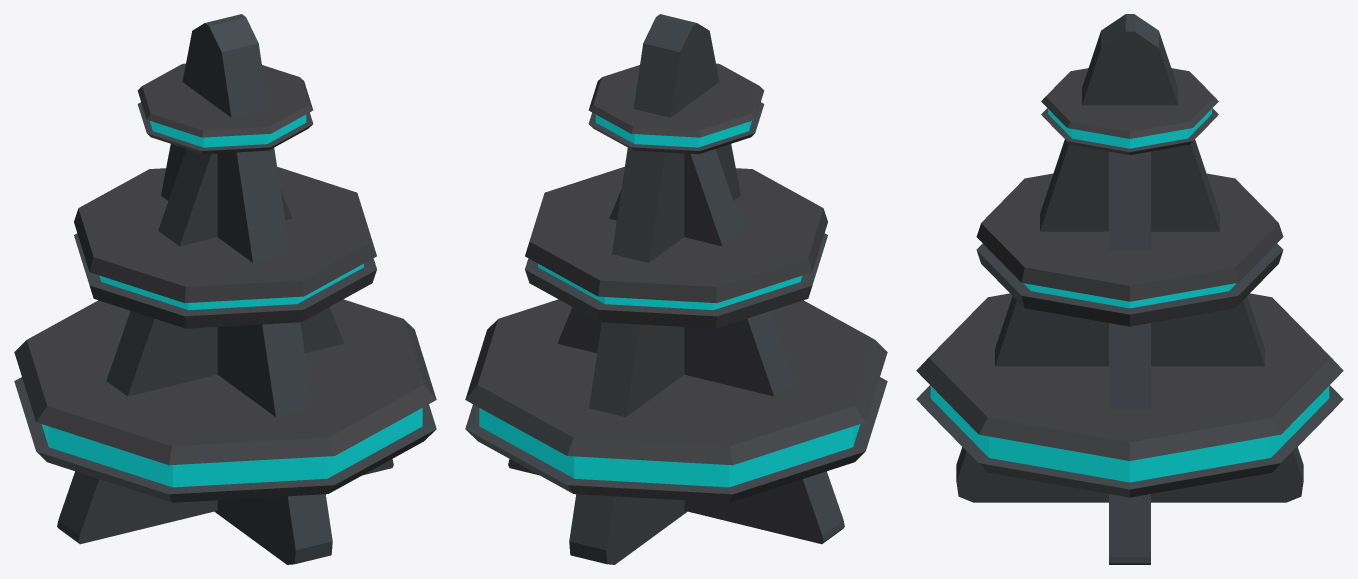
Rendered from LightCylinder_02.glb.
The picture shows the model from 3 angles, left to right: view 1: azimuth 30°, elevation 25°; view 2: azimuth 150°, elevation 25°; view 3: azimuth 270°, elevation 25°; orthographic projection. The views are drawn at different scales.
Parts seen in each view (by area): view 1: LightCylinder_02; view 2: LightCylinder_02; view 3: LightCylinder_02.
Boxes of the visible parts, <box> form: LightCylinder_02: <box>14,14,436,564</box>; LightCylinder_02: <box>465,14,887,564</box>; LightCylinder_02: <box>916,14,1343,564</box>.
Size of what is drawn, in the model's own units: 0.6172 by 0.7499 by 0.6172.
Materials: 2 (2 with a texture image).
